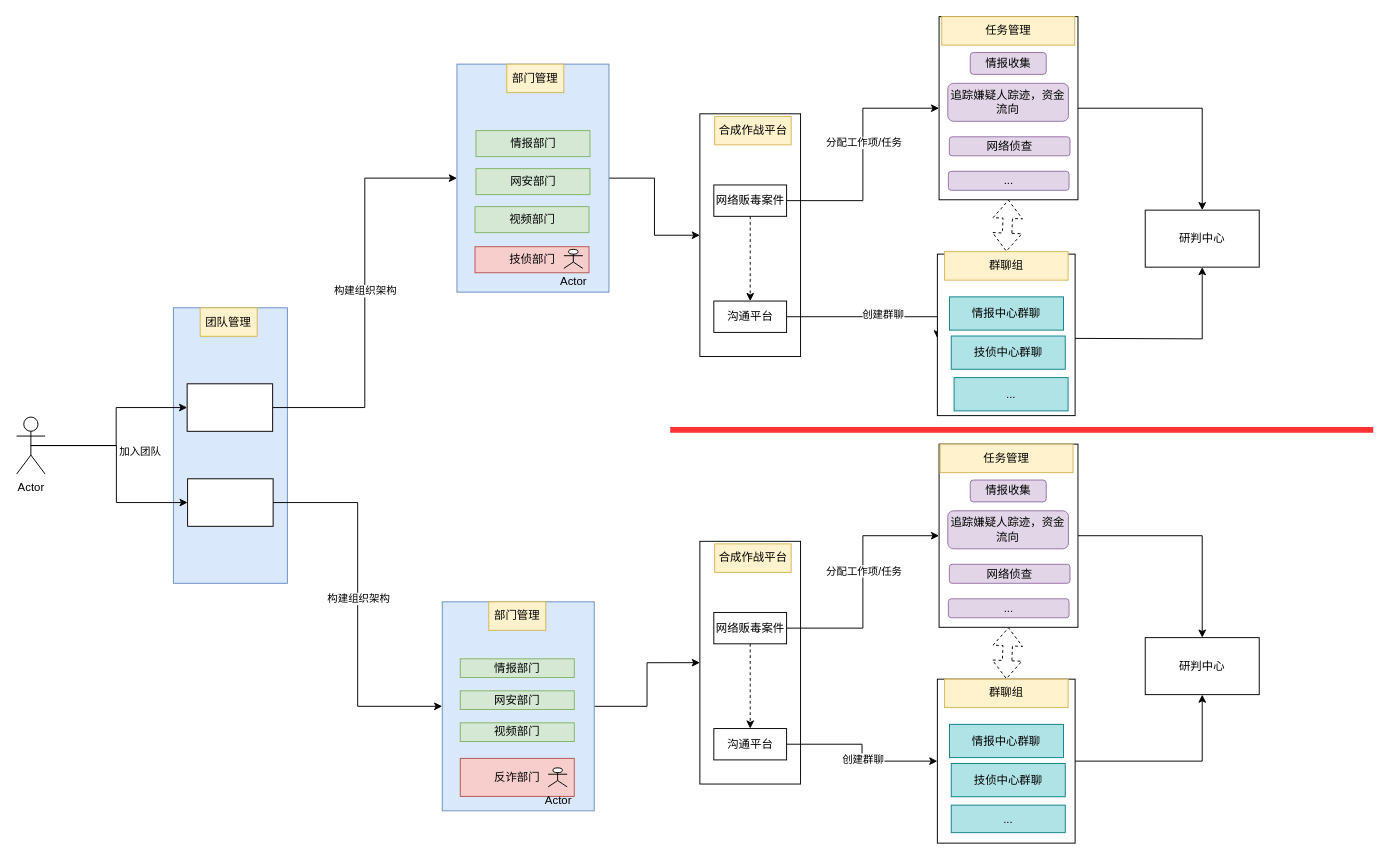
Image size: 1394x860. Some labels were removed from this diagram. Each missing label, with the centre of its shape:
缉毒一大队: (229,407)
诈骗二大队: (230,502)
